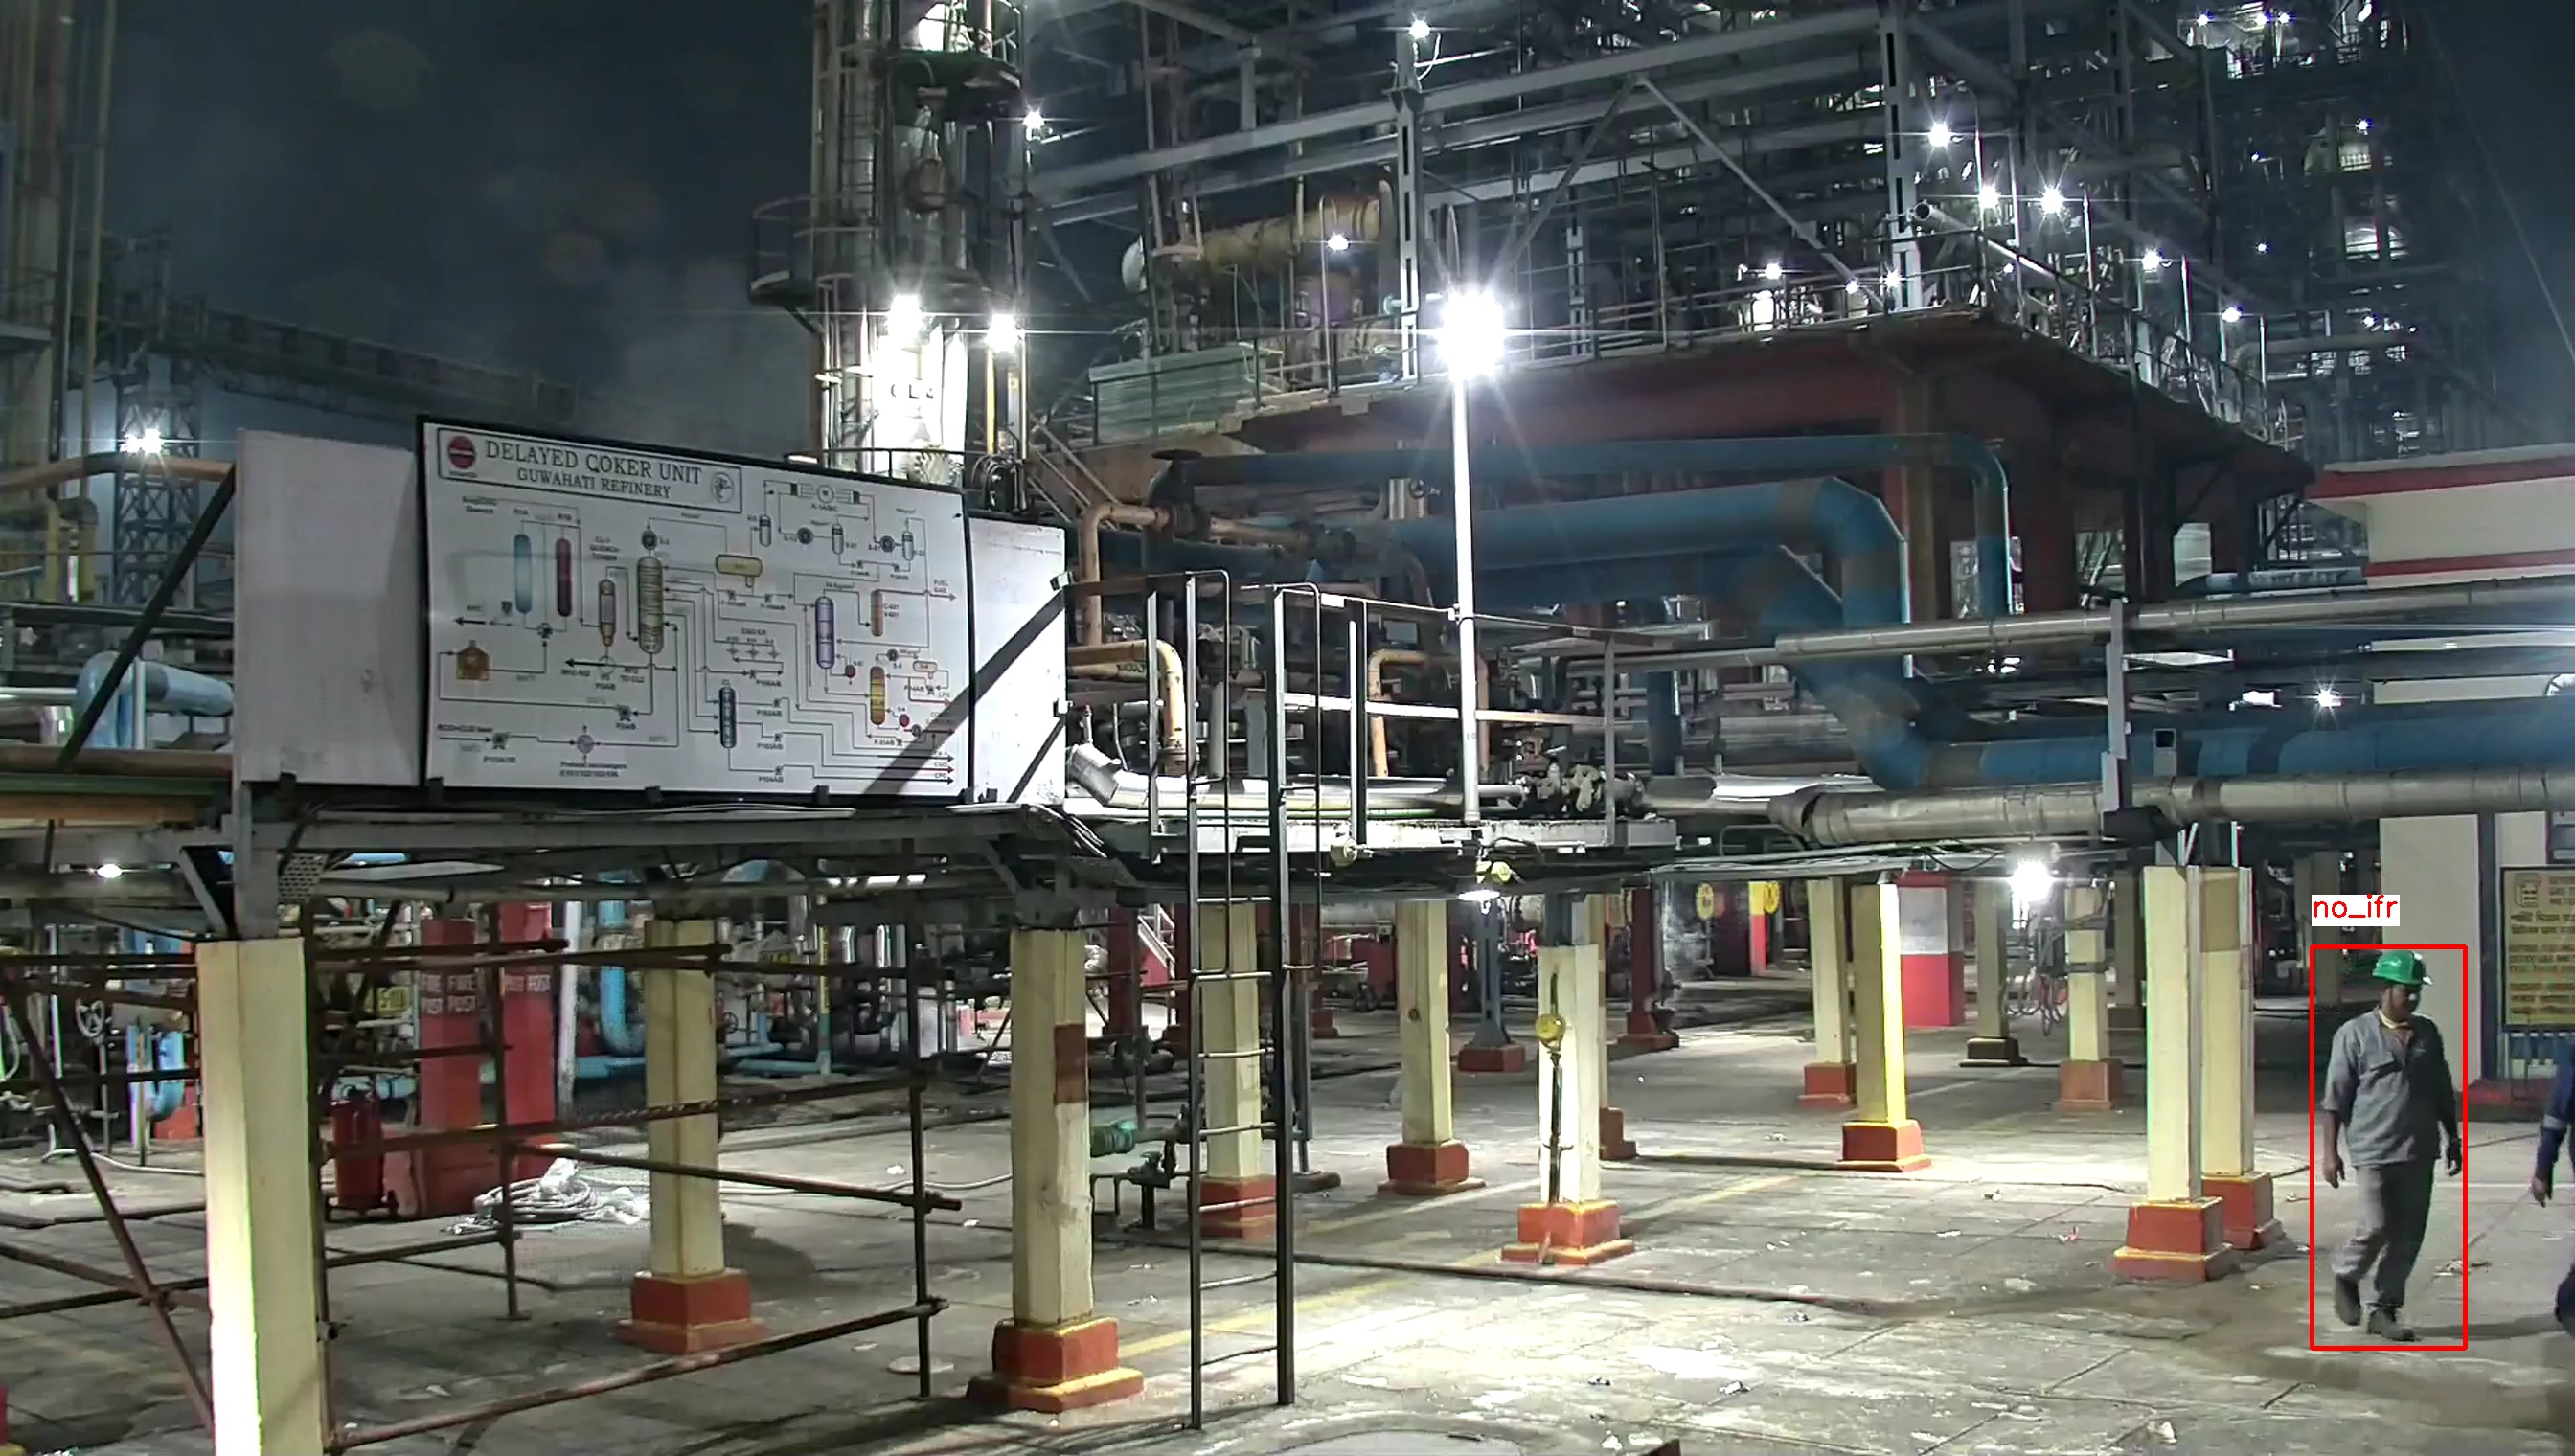Helmets: (2372, 952, 2442, 989)
